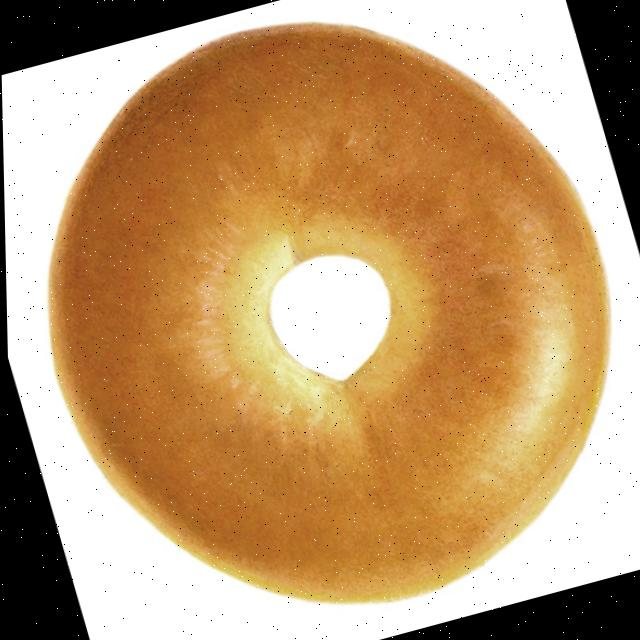Bagel: (49, 24, 606, 601)
